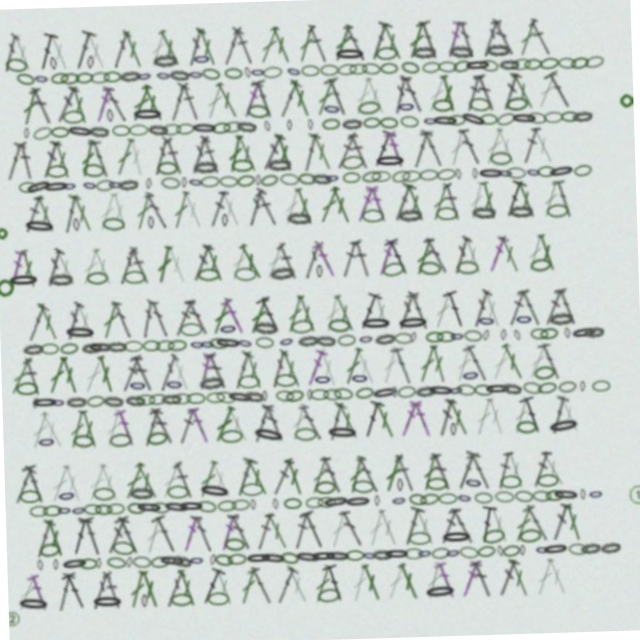chain: (248, 424, 282, 443), (193, 479, 226, 497), (544, 425, 577, 442), (465, 115, 494, 134), (26, 210, 59, 226), (64, 318, 96, 333), (323, 426, 355, 441), (9, 588, 41, 603), (416, 588, 448, 603), (29, 170, 57, 187), (397, 319, 429, 333), (72, 117, 100, 132), (342, 49, 374, 62), (138, 103, 170, 116), (379, 157, 411, 170), (9, 265, 41, 278), (360, 319, 392, 332), (434, 535, 466, 548), (83, 589, 115, 602), (383, 263, 407, 280), (475, 533, 499, 550), (271, 264, 296, 280), (552, 172, 580, 186), (570, 334, 598, 348), (224, 388, 252, 402), (369, 388, 397, 402), (157, 496, 185, 510), (252, 550, 280, 564), (287, 550, 315, 564), (197, 372, 222, 387), (13, 48, 36, 64), (105, 534, 128, 550), (151, 550, 179, 563), (214, 334, 241, 347), (425, 388, 452, 401), (130, 496, 157, 509), (317, 496, 344, 509), (547, 496, 574, 509), (54, 550, 81, 563), (535, 550, 562, 563), (253, 102, 276, 117), (364, 102, 387, 117), (475, 102, 498, 117), (87, 156, 110, 171), (346, 156, 369, 171), (420, 264, 443, 279), (309, 588, 332, 603), (161, 49, 185, 63), (457, 49, 481, 63), (38, 117, 59, 133), (502, 117, 523, 133), (401, 211, 425, 225), (253, 319, 277, 333), (549, 319, 573, 333), (532, 372, 554, 387), (143, 426, 165, 441), (32, 534, 54, 549), (197, 119, 224, 131), (438, 119, 465, 131), (517, 119, 544, 131), (47, 173, 74, 185), (482, 173, 509, 185), (87, 335, 114, 347), (339, 497, 366, 509), (317, 551, 344, 563), (512, 103, 535, 117), (105, 211, 128, 225), (512, 535, 535, 549), (592, 63, 613, 78), (213, 387, 234, 402), (520, 387, 541, 402), (420, 49, 444, 62), (494, 49, 518, 62), (198, 157, 222, 170), (272, 157, 296, 170), (290, 211, 314, 224), (475, 211, 499, 224), (512, 211, 536, 224), (50, 265, 74, 278), (124, 481, 148, 494), (495, 157, 517, 171), (550, 211, 572, 225), (236, 265, 258, 279), (458, 265, 480, 279), (291, 319, 313, 333), (328, 319, 350, 333), (69, 427, 91, 441), (106, 427, 128, 441), (291, 427, 313, 441), (347, 481, 369, 495), (217, 535, 239, 549), (23, 63, 43, 78), (408, 63, 428, 78), (460, 63, 480, 78), (472, 65, 499, 76), (29, 389, 56, 400), (482, 389, 509, 400), (172, 497, 199, 508), (238, 551, 265, 562), (303, 551, 330, 562), (376, 551, 403, 562), (532, 265, 553, 279), (374, 334, 395, 348), (164, 550, 185, 564), (384, 49, 406, 62), (69, 103, 91, 116), (51, 157, 73, 170), (236, 157, 258, 170), (365, 211, 387, 224), (439, 211, 461, 224), (88, 265, 110, 278), (125, 265, 147, 278), (199, 265, 221, 278), (180, 319, 202, 332), (14, 373, 36, 386), (236, 373, 258, 386), (273, 373, 295, 386), (217, 427, 239, 440), (14, 481, 36, 494), (88, 481, 110, 494), (162, 481, 184, 494), (236, 481, 258, 494), (421, 481, 443, 494), (495, 481, 517, 494), (532, 481, 554, 494), (402, 535, 424, 548), (162, 589, 184, 602), (199, 589, 221, 602), (329, 102, 348, 117), (459, 480, 478, 495), (487, 64, 507, 78), (533, 118, 553, 132), (264, 172, 284, 186), (535, 388, 555, 402), (191, 496, 211, 510), (452, 550, 472, 564), (127, 64, 148, 77), (439, 103, 460, 116), (242, 118, 263, 131), (578, 118, 599, 131), (162, 157, 183, 170), (22, 334, 43, 347), (297, 334, 318, 347), (583, 334, 604, 347), (241, 388, 262, 401), (413, 388, 434, 401), (499, 388, 520, 401), (513, 427, 534, 440), (310, 481, 331, 494), (573, 550, 594, 563), (593, 550, 614, 563), (209, 64, 228, 78), (578, 64, 597, 78), (396, 172, 415, 186), (477, 319, 496, 333), (163, 373, 182, 387), (283, 388, 302, 402), (52, 481, 71, 495), (207, 550, 226, 564), (273, 550, 292, 564), (345, 64, 365, 77), (369, 64, 389, 77), (519, 64, 539, 77), (547, 64, 567, 77), (229, 118, 249, 131), (165, 172, 185, 185), (284, 172, 304, 185), (366, 172, 386, 185), (441, 172, 461, 185), (208, 334, 228, 347), (331, 388, 351, 401), (454, 388, 474, 401), (414, 496, 434, 509), (489, 496, 509, 509), (99, 550, 119, 563), (122, 173, 143, 185), (219, 319, 237, 333), (127, 373, 145, 387), (460, 373, 478, 387), (58, 64, 77, 77), (406, 118, 425, 131), (241, 172, 260, 185), (302, 172, 321, 185), (578, 172, 597, 185), (463, 334, 482, 347), (539, 334, 558, 347), (84, 388, 103, 401), (146, 388, 165, 401), (353, 388, 372, 401), (395, 388, 414, 401), (556, 388, 575, 401), (121, 496, 140, 509), (403, 496, 422, 509), (509, 496, 528, 509), (125, 550, 144, 563), (470, 550, 489, 563), (495, 550, 514, 563), (177, 65, 197, 77), (270, 65, 290, 77), (95, 119, 115, 131), (154, 119, 174, 131), (217, 119, 237, 131), (348, 119, 368, 131), (316, 173, 336, 185), (406, 173, 426, 185), (81, 335, 101, 347), (315, 335, 335, 347), (101, 389, 121, 401), (123, 389, 143, 401), (145, 497, 165, 509), (143, 551, 163, 563), (561, 551, 581, 563), (293, 64, 310, 78), (236, 334, 253, 348), (201, 49, 219, 62), (404, 103, 422, 116), (515, 319, 533, 332), (312, 373, 330, 386), (349, 373, 367, 386), (34, 427, 52, 440), (68, 65, 87, 77), (98, 65, 117, 77), (446, 65, 465, 77), (168, 119, 187, 131), (100, 173, 119, 185), (511, 173, 530, 185), (59, 335, 78, 347), (155, 335, 174, 347), (167, 335, 186, 347), (273, 389, 292, 401), (472, 389, 491, 401), (212, 497, 231, 509), (527, 497, 546, 509), (424, 551, 443, 563), (507, 65, 527, 76), (106, 335, 126, 346), (64, 389, 84, 400), (159, 389, 179, 400), (365, 551, 385, 562), (83, 65, 101, 77), (232, 65, 250, 77), (430, 65, 448, 77), (532, 65, 550, 77), (566, 65, 584, 77), (182, 119, 200, 131), (386, 119, 404, 131), (224, 173, 242, 185), (255, 335, 273, 347), (337, 335, 355, 347), (394, 335, 412, 347), (321, 389, 339, 401), (89, 497, 107, 509), (469, 497, 487, 509), (135, 119, 154, 130), (550, 119, 569, 130), (23, 173, 42, 184), (205, 173, 224, 184), (376, 173, 395, 184), (424, 173, 443, 184), (123, 335, 142, 346), (436, 335, 455, 346), (134, 389, 153, 400), (170, 389, 189, 400), (184, 389, 203, 400), (204, 389, 223, 400), (308, 389, 327, 400), (37, 497, 56, 508), (433, 497, 452, 508), (220, 551, 239, 562), (338, 551, 357, 562), (397, 551, 416, 562), (41, 64, 57, 77), (86, 172, 102, 185), (192, 172, 208, 185), (278, 334, 294, 347), (446, 388, 462, 401), (451, 496, 467, 509), (111, 65, 129, 76), (309, 65, 327, 76), (328, 65, 346, 76), (357, 65, 375, 76), (388, 65, 406, 76), (57, 119, 75, 130), (118, 119, 136, 130), (328, 119, 346, 130), (369, 119, 387, 130), (454, 119, 472, 130), (486, 119, 504, 130), (567, 119, 585, 130), (347, 173, 365, 184), (542, 173, 560, 184), (40, 335, 58, 346), (142, 335, 160, 346), (425, 335, 443, 346), (530, 335, 548, 346), (590, 389, 608, 400), (24, 497, 42, 508), (78, 497, 96, 508), (101, 497, 119, 508), (226, 497, 244, 508), (278, 497, 296, 508), (300, 497, 318, 508), (312, 497, 330, 508), (540, 497, 558, 508), (72, 551, 90, 562), (144, 65, 160, 77), (163, 65, 179, 77), (502, 173, 518, 185), (530, 173, 546, 185), (199, 335, 215, 347), (65, 497, 81, 509), (438, 551, 454, 563), (196, 65, 211, 77), (189, 335, 204, 347), (386, 497, 401, 509), (355, 551, 370, 563), (258, 65, 273, 76), (429, 119, 444, 130), (66, 173, 81, 184), (112, 173, 127, 184), (329, 173, 344, 184), (358, 335, 373, 346), (449, 335, 464, 346), (48, 389, 63, 400), (51, 497, 66, 508), (583, 497, 598, 508), (182, 551, 197, 562), (410, 551, 425, 562), (528, 551, 543, 562), (513, 335, 521, 347), (58, 49, 65, 62), (95, 49, 102, 62), (113, 103, 120, 116), (76, 211, 83, 224), (151, 211, 157, 224), (225, 211, 231, 224), (318, 265, 324, 278), (447, 427, 453, 440), (392, 481, 398, 494), (133, 589, 139, 602), (252, 65, 259, 76), (270, 119, 277, 130), (409, 335, 416, 346), (482, 335, 489, 346), (202, 551, 209, 562), (490, 551, 497, 562), (150, 173, 156, 184), (460, 173, 466, 184), (500, 335, 506, 346), (564, 335, 570, 346), (30, 389, 36, 400), (267, 497, 273, 508), (30, 551, 36, 562), (119, 551, 125, 562), (30, 119, 35, 130), (293, 119, 298, 130), (314, 119, 319, 130), (186, 173, 191, 184), (260, 173, 265, 184), (477, 173, 482, 184), (260, 389, 265, 400), (305, 389, 310, 400), (390, 389, 395, 400), (578, 389, 583, 400), (245, 497, 250, 508), (369, 497, 374, 508), (575, 497, 580, 508), (46, 551, 51, 562), (89, 551, 94, 562), (513, 551, 518, 562)
double: (551, 77, 582, 118), (189, 563, 219, 604), (374, 131, 403, 172), (386, 239, 415, 280), (256, 293, 285, 334), (355, 293, 384, 334), (448, 455, 477, 496), (108, 509, 137, 550), (145, 509, 174, 550), (293, 509, 322, 550), (53, 563, 82, 604), (393, 185, 421, 226), (504, 185, 532, 226), (534, 456, 563, 495), (282, 78, 310, 118), (23, 294, 51, 334), (5, 456, 33, 496), (442, 510, 470, 550), (516, 510, 544, 550), (264, 564, 292, 604), (79, 23, 106, 64), (375, 23, 402, 64), (331, 77, 358, 118), (356, 401, 383, 442), (516, 401, 543, 442), (17, 455, 44, 496), (227, 455, 254, 496), (393, 509, 420, 550), (220, 78, 248, 117), (516, 78, 544, 117), (264, 132, 292, 171), (239, 240, 267, 279), (5, 348, 33, 387), (35, 402, 63, 441), (146, 402, 174, 441), (128, 456, 156, 495), (227, 24, 254, 64), (146, 78, 173, 118), (535, 132, 562, 172), (79, 348, 106, 388), (128, 348, 155, 388), (461, 348, 488, 388), (153, 456, 180, 496), (461, 456, 488, 496), (97, 510, 124, 550), (239, 564, 266, 604), (276, 564, 303, 604), (425, 23, 451, 64), (258, 77, 284, 118), (443, 293, 469, 334), (61, 509, 87, 550), (73, 509, 99, 550), (314, 563, 340, 604), (165, 24, 192, 63), (60, 78, 87, 117), (541, 78, 568, 117), (54, 240, 81, 279), (498, 348, 525, 387), (208, 402, 235, 441), (116, 456, 143, 495), (239, 456, 266, 495), (265, 24, 291, 64), (388, 24, 414, 64), (36, 78, 62, 118), (135, 78, 161, 118), (172, 78, 198, 118), (431, 78, 457, 118), (6, 132, 32, 172), (314, 132, 340, 172), (413, 132, 439, 172), (425, 132, 451, 172), (73, 186, 99, 226), (191, 240, 217, 280), (499, 240, 525, 280), (246, 294, 272, 334), (332, 294, 358, 334), (517, 294, 543, 334), (203, 348, 229, 388), (228, 348, 254, 388), (277, 348, 303, 388), (487, 348, 513, 388), (536, 348, 562, 388), (135, 402, 161, 442), (246, 402, 272, 442), (369, 402, 395, 442), (203, 456, 229, 496), (24, 510, 50, 550), (6, 564, 32, 604), (388, 564, 414, 604), (487, 564, 513, 604), (320, 186, 346, 225), (314, 240, 340, 279), (221, 294, 247, 333), (524, 348, 550, 387), (221, 402, 247, 441), (332, 402, 358, 441), (258, 510, 284, 549), (43, 24, 68, 64), (55, 24, 80, 64), (92, 24, 117, 64), (129, 24, 154, 64), (277, 24, 302, 64), (339, 24, 364, 64), (524, 24, 549, 64), (295, 78, 320, 118), (320, 78, 345, 118), (487, 132, 512, 172), (499, 132, 524, 172), (184, 186, 209, 226), (332, 186, 357, 226), (80, 240, 105, 280), (92, 240, 117, 280), (166, 240, 191, 280), (73, 294, 98, 334), (406, 294, 431, 334), (431, 294, 456, 334), (554, 294, 579, 334), (43, 456, 68, 496), (80, 456, 105, 496), (92, 456, 117, 496), (191, 456, 216, 496), (425, 456, 450, 496), (406, 510, 431, 550), (505, 510, 530, 550), (542, 510, 567, 550), (351, 564, 376, 604), (462, 564, 487, 604), (499, 564, 524, 604), (536, 25, 562, 63), (240, 132, 265, 171), (221, 186, 246, 225), (357, 186, 382, 225), (265, 240, 290, 279), (487, 240, 512, 279), (36, 294, 61, 333), (209, 294, 234, 333), (394, 294, 419, 333), (302, 348, 327, 387), (351, 348, 376, 387), (184, 402, 209, 441), (394, 402, 419, 441), (443, 402, 468, 441), (554, 402, 579, 441), (376, 564, 401, 603), (450, 564, 475, 603), (19, 24, 43, 64), (204, 24, 228, 64), (210, 78, 234, 118), (358, 78, 382, 118), (481, 78, 505, 118), (506, 78, 530, 118), (44, 132, 68, 172), (93, 132, 117, 172), (303, 132, 327, 172), (99, 186, 123, 226), (296, 186, 320, 226), (407, 186, 431, 226), (432, 186, 456, 226), (204, 240, 228, 280), (414, 240, 438, 280), (463, 240, 487, 280), (167, 348, 191, 388), (315, 348, 339, 388), (389, 348, 413, 388), (451, 348, 475, 388), (25, 402, 49, 442), (321, 402, 345, 442), (469, 402, 493, 442), (543, 402, 567, 442), (377, 456, 401, 496), (481, 510, 505, 550), (44, 564, 68, 604), (130, 564, 154, 604), (167, 564, 191, 604), (204, 564, 228, 604), (303, 564, 327, 604), (525, 564, 549, 604), (110, 79, 135, 117), (258, 187, 283, 225), (247, 78, 271, 117), (370, 78, 394, 117), (118, 132, 142, 171), (192, 132, 216, 171), (37, 186, 61, 225), (247, 186, 271, 225), (518, 186, 542, 225), (229, 240, 253, 279), (426, 240, 450, 279), (451, 240, 475, 279), (185, 294, 209, 333), (469, 294, 493, 333), (44, 348, 68, 387), (340, 348, 364, 387), (414, 348, 438, 387), (407, 402, 431, 441), (303, 456, 327, 495), (333, 510, 357, 549), (370, 510, 394, 549), (426, 564, 450, 603), (537, 564, 561, 603), (56, 132, 79, 172), (278, 132, 301, 172), (62, 186, 85, 226), (136, 186, 159, 226), (173, 186, 196, 226), (543, 186, 566, 226), (555, 186, 578, 226), (99, 294, 122, 334), (481, 294, 504, 334), (241, 348, 264, 388), (99, 402, 122, 442), (432, 402, 455, 442), (278, 456, 301, 496), (500, 456, 523, 496), (37, 510, 60, 550), (136, 510, 159, 550), (321, 510, 344, 550), (118, 564, 141, 604), (340, 133, 364, 171), (352, 133, 376, 171), (148, 187, 172, 225), (118, 349, 142, 387), (155, 349, 179, 387), (296, 403, 320, 441), (266, 457, 290, 495), (155, 565, 179, 603), (118, 24, 141, 63), (155, 24, 178, 63), (192, 24, 215, 63), (241, 24, 264, 63), (414, 24, 437, 63), (488, 24, 511, 63), (500, 24, 523, 63), (99, 78, 122, 117), (389, 132, 412, 171), (284, 186, 307, 225), (370, 186, 393, 225), (44, 240, 67, 279), (377, 240, 400, 279), (62, 294, 85, 333), (284, 294, 307, 333), (296, 294, 319, 333), (111, 402, 134, 441), (56, 456, 79, 495), (389, 456, 412, 495), (173, 510, 196, 549), (222, 510, 245, 549), (432, 510, 455, 549), (19, 564, 42, 603), (229, 564, 252, 603), (26, 78, 48, 118), (75, 78, 97, 118), (452, 132, 474, 172), (322, 294, 344, 334), (63, 402, 85, 442), (75, 402, 97, 442), (341, 456, 363, 496), (470, 510, 492, 550), (556, 510, 578, 550), (341, 564, 363, 604), (415, 564, 437, 604), (315, 25, 338, 63), (352, 25, 375, 63), (118, 241, 141, 279), (130, 241, 153, 279), (278, 241, 301, 279), (303, 241, 326, 279), (173, 295, 196, 333), (543, 295, 566, 333), (352, 457, 375, 495), (81, 565, 104, 603), (304, 24, 326, 63), (452, 24, 474, 63), (186, 78, 208, 117), (396, 78, 418, 117), (408, 78, 430, 117), (168, 132, 190, 171), (205, 132, 227, 171), (464, 132, 486, 171), (26, 186, 48, 225), (211, 186, 233, 225), (526, 240, 548, 279), (538, 240, 560, 279), (507, 294, 529, 333), (57, 348, 79, 387), (378, 348, 400, 387), (507, 402, 529, 441), (168, 456, 190, 495), (526, 456, 548, 495), (211, 510, 233, 549), (359, 510, 381, 549), (156, 240, 177, 280), (445, 78, 466, 117), (156, 132, 177, 171), (230, 132, 251, 171), (526, 132, 547, 171), (470, 186, 491, 225), (482, 186, 503, 225), (8, 240, 29, 279), (20, 240, 41, 279), (112, 294, 133, 333), (149, 294, 170, 333), (94, 348, 115, 387), (267, 348, 288, 387), (427, 348, 448, 387), (174, 402, 195, 441), (260, 402, 281, 441), (285, 402, 306, 441), (482, 402, 503, 441), (316, 456, 337, 495), (415, 456, 436, 495), (186, 510, 207, 549), (248, 510, 269, 549), (94, 564, 115, 603), (9, 24, 29, 63), (471, 78, 491, 117), (83, 132, 103, 171), (113, 186, 133, 225), (446, 186, 466, 225), (342, 240, 362, 279), (354, 240, 374, 279), (372, 294, 392, 333), (21, 348, 41, 387), (194, 348, 214, 387), (132, 132, 151, 171), (286, 510, 305, 549), (466, 24, 484, 63), (22, 132, 40, 171), (139, 294, 157, 333), (491, 456, 509, 495)
noise: (622, 493, 640, 515), (0, 268, 17, 289), (0, 600, 12, 618), (626, 103, 640, 118), (0, 217, 12, 231)
